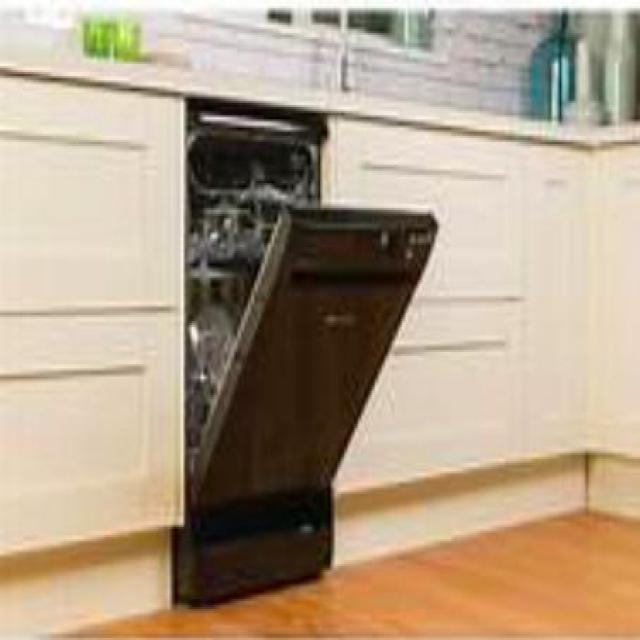dishwasher: (179, 90, 434, 531)
